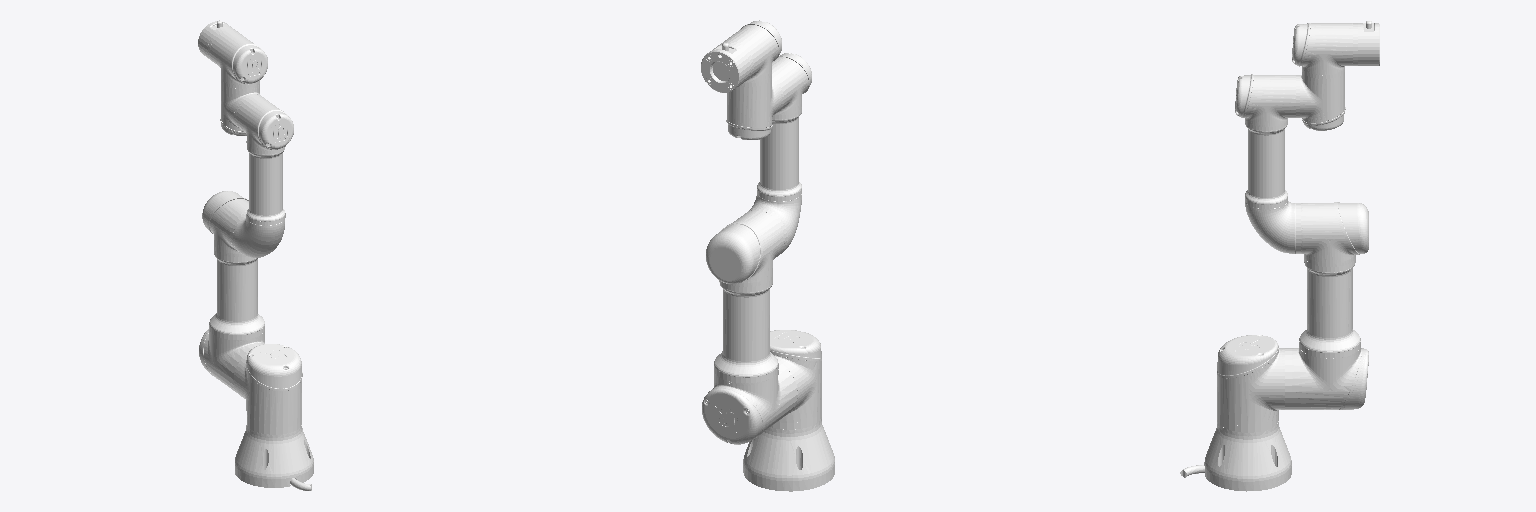
The robot description file, URDF, robot "ur3_test":
<robot name="ur3_test">

	<link name="world">
		
	</link>
        <link name="base_link">
        <inertial>
                <origin xyz="3.9192E-05 -0.00080834 0.04622" rpy="0 0 0" />
                <mass value="0.61578" />
                <inertia ixx="0.00076129" ixy="2.9384E-07" ixz="3.5384E-07" iyy="0.00077457" iyz="-3.4657E-06" izz="0.0010029" />
        </inertial>
        <visual>
                <origin xyz="0 0 0" rpy="0 0 0" />
                <geometry>
                        <mesh filename="package://ur5/meshes/ur3/base_link.STL" />
                </geometry>
                <material name="">
                        <color rgba="1 1 1 1" />
                </material>
        </visual>
        <collision>
                <origin xyz="0 0 0" rpy="0 0 0" />
                <geometry>
                        <mesh filename="package://ur5/meshes/ur3/base_link.STL" />
                </geometry>
        </collision>
        </link>
	<joint name="joint_base" type="fixed">
		<origin xyz="0.0 0.0 0.0" rpy="0.0 0.0 0.0"/>
		<parent link="world"/>
		<child link="base_link"/>
		<axis xyz="0.0 0.0 0.0"/>
	</joint>
        <gazebo reference="base_link">
                <material>Gazebo/Black</material>
        </gazebo>



        <link name="shoulder_pan_link">
                <inertial>
                        <origin xyz="1.1634E-05 0.0073306 -0.011559" rpy="0 0 0" />
                        <mass value="0.75582" />
                        <inertia ixx="0.0010687" ixy="-1.8994E-07" ixz="1.0778E-07" iyy="0.00099006" iyz="-0.00013108" izz="0.00090616" />
                </inertial>
                <visual>
                        <origin xyz="0 0 0" rpy="0 0 0" />
                        <geometry>
                                <mesh filename="package://ur5/meshes/ur3/shoulder_pan_link.STL" />
                        </geometry>
                        <material name="">
                                <color rgba="1 1 1 1" />
                        </material>
                </visual>
                <collision>
                        <origin xyz="0 0 0" rpy="0 0 0" />
                        <geometry>
                                <mesh filename="package://ur5/meshes/ur3/shoulder_pan_link.STL" />
                        </geometry>
                </collision>
        </link>
        <joint name="shoulder_pan_joint" type="revolute">
                <origin xyz="0 0 0.1519" rpy="0 0 0" />
                <parent link="base_link" />
                <child link="shoulder_pan_link" />
                <axis xyz="0 0 1" />
                <limit lower="-3.14" upper="3.14" effort="40" velocity="10" />
        </joint>
        <gazebo reference="shoulder_pan_link">
                <material>Gazebo/Orange</material>
        </gazebo>

        <link name="shoulder_lift_link">
                <inertial>
                        <origin xyz="0.1057 0.1166 4.973E-06" rpy="0 0 0" />
                        <mass value="1.8018" />
                        <inertia ixx="0.0016699" ixy="-8.1105E-05" ixz="-1.9355E-07" iyy="0.002517" iyz="1.05E-07" izz="0.0026495" />
                </inertial>
                <visual>
                        <origin xyz="0 0 0" rpy="1.5708 0 0" />
                        <geometry>
                                <mesh filename="package://ur5/meshes/ur3/shoulder_lift_link.STL" />
                        </geometry>
                        <material name="">
                                <color rgba="1 1 1 1" />
                        </material>
                </visual>
                <collision>
                        <origin xyz="0 0 0" rpy="0 0 0" />
                        <geometry>
                                <mesh filename="package://ur5/meshes/ur3/shoulder_lift_link.STL" />
                        </geometry>
                </collision>
        </link>
        <joint name="shoulder_lift_joint" type="revolute">
                <origin xyz="0 0 0" rpy="-1.5708 -1.5708 0" />
                <parent link="shoulder_pan_link" />
                <child link="shoulder_lift_link" />
                <axis xyz="0 0 1" />
                <limit lower="-3.14" upper="3.14" effort="40" velocity="10" />
        </joint>
        <gazebo reference="shoulder_lift_link">
                <material>Gazebo/Orange</material>
        </gazebo>

        <link name="elbow_link">
                <inertial>
                        <origin xyz="0.11119 4.3735E-08 -0.032145" rpy="0 0 0" />
                        <mass value="0.96221" />
                        <inertia ixx="0.00054272" ixy="-1.8204E-09" ixz="-4.6141E-05" iyy="0.0010727" iyz="1.4671E-10" izz="0.0010148" />
                </inertial>
                <visual>
                        <origin xyz="0 0 0" rpy="0 0 0" />
                        <geometry>
                                <mesh filename="package://ur5/meshes/ur3/elbow_link.STL" />
                        </geometry>
                        <material name="">
                                <color rgba="1 1 1 1" />
                        </material>
                </visual>
                <collision>
                        <origin xyz="0 0 0" rpy="0 0 0" />
                        <geometry>
                                <mesh filename="package://ur5/meshes/ur3/elbow_link.STL" />
                        </geometry>
                </collision>
        </link>
        <joint name="elbow_joint" type="revolute">
                <origin xyz="0.24365 0 0" rpy="3.1416 0 0" />
                <parent link="shoulder_lift_link" />
                <child link="elbow_link" />
                <axis xyz="0 0 1" />
                <limit lower="-3.14" upper="3.14" effort="40" velocity="10" />
        </joint>
        <gazebo reference="elbow_link">
                <material>Gazebo/Orange</material>
        </gazebo>


        <link name="wrist_1_link">
                <inertial>
                        <origin xyz="-7.2372E-08 0.00051699 -0.0059208" rpy="0 0 0" />
                        <mass value="0.32519" />
                        <inertia ixx="0.00022622" ixy="1.7006E-10" ixz="-1.5908E-09" iyy="0.00019909" iyz="1.8338E-05" izz="0.00019458" />
                </inertial>
                <visual>
                        <origin xyz="0 0 0" rpy="0 0 0" />
                        <geometry>
                                <mesh filename="package://ur5/meshes/ur3/wrist_1_link.STL" />
                        </geometry>
                        <material name="">
                                <color rgba="1 1 1 1" />
                        </material>
                </visual>
                <collision>
                        <origin xyz="0 0 0" rpy="0 0 0" />
                        <geometry>
                                <mesh filename="package://ur5/meshes/ur3/wrist_1_link.STL" />
                        </geometry>
                </collision>
        </link>
        <joint name="wrist_1_joint" type="revolute">
                <origin xyz="0.213 0 -0.1104" rpy="-3.1416 0 -1.5708" />
                <parent link="elbow_link" />
                <child link="wrist_1_link" />
                <axis xyz="0 0 1" />
                <limit lower="-3.14" upper="3.14" effort="40" velocity="10" />
        </joint>
        <gazebo reference="wrist_1_link">
                <material>Gazebo/Orange</material>
        </gazebo>

        <link name="wrist_2_link">
                <inertial>
                        <origin xyz="9.251E-08 -0.00051698 -0.0059208" rpy="0 0 0" />
                        <mass value="0.32519" />
                        <inertia ixx="0.00022621" ixy="2.6605E-10" ixz="1.6587E-09" iyy="0.00019908" iyz="-1.8338E-05" izz="0.00019458" />
                </inertial>
                <visual>
                        <origin xyz="0 0 0" rpy="0 0 0" />
                        <geometry>
                                <mesh filename="package://ur5/meshes/ur3/wrist_2_link.STL" />
                        </geometry>
                        <material name="">
                                <color rgba="1 1 1 1" />
                        </material>
                </visual>
                <collision>
                        <origin xyz="0 0 0" rpy="0 0 0" />
                        <geometry>
                                <mesh filename="package://ur5/meshes/ur3/wrist_2_link.STL" />
                        </geometry>
                </collision>
        </link>
                <joint name="wrist_2_joint" type="revolute">
                <origin xyz="0 -0.0834 0" rpy="1.5708 0 0" />
                <parent link="wrist_1_link" />
                <child link="wrist_2_link" />
                <axis xyz="0 0 1" />
                <limit lower="-3.14" upper="3.14" effort="40" velocity="10" />
        </joint>
        <gazebo reference="wrist_2_link">
                <material>Gazebo/Orange</material>
        </gazebo>
                
        <link name="wrist_3_link">
                <inertial>
                        <origin xyz="3.4949E-11 0.00010331 -0.020427" rpy="0 0 0" />
                        <mass value="0.11536" />
                        <inertia ixx="4.2469E-05" ixy="-5.7739E-13" ixz="-1.2174E-12" iyy="4.2681E-05" iyz="-1.0323E-07" izz="5.9067E-05" />
                </inertial>
                <visual>
                        <origin xyz="0 0 0" rpy="0 0 0" />
                        <geometry>
                                <mesh filename="package://ur5/meshes/ur3/wrist_3_link.STL" />
                        </geometry>
                        <material name="">
                                <color rgba="1 1 1 1" />
                        </material>
                </visual>
                <collision>
                        <origin xyz="0 0 0" rpy="0 0 0" />
                        <geometry>
                                <mesh filename="package://ur5/meshes/ur3/wrist_3_link.STL" />
                        </geometry>
                </collision>
        </link>
        <joint name="wrist_3_joint" type="revolute">
                <origin xyz="0 0.0824 0" rpy="-1.5708 0 0" />
                <parent link="wrist_2_link" />
                <child link="wrist_3_link" />
                <axis xyz="0 0 1" />
                <limit lower="-3.14" upper="3.14" effort="40" velocity="10" />
        </joint>
        <gazebo reference="wrist_3_link">
                <material>Gazebo/Orange</material>
        </gazebo>
        

//VelocityJointInterface
//PositionJointInterface
        <transmission name="trans_1">
                <type>transmission_interface/SimpleTransmission</type>
                <actuator name="motor_1">
                        <hardwareInterface>hardware_interface/PositionJointInterface</hardwareInterface>                
                        <mechanicalReduction>1</mechanicalReduction>
                </actuator>
                <joint name="shoulder_pan_joint">
                        <hardwareInterface>hardware_interface/PositionJointInterface</hardwareInterface>
                </joint>
        </transmission>

        <transmission name="trans_2">
                <type>transmission_interface/SimpleTransmission</type>
                <actuator name="motor_2">
                        <hardwareInterface>hardware_interface/PositionJointInterface</hardwareInterface>                
                        <mechanicalReduction>1</mechanicalReduction>
                </actuator>
                <joint name="shoulder_lift_joint">
                        <hardwareInterface>hardware_interface/PositionJointInterface</hardwareInterface>
                </joint>
        </transmission>

        <transmission name="trans_3">
                <type>transmission_interface/SimpleTransmission</type>
                <actuator name="motor_3">
                        <hardwareInterface>hardware_interface/PositionJointInterface</hardwareInterface>                
                        <mechanicalReduction>1</mechanicalReduction>
                </actuator>
                <joint name="elbow_joint">
                        <hardwareInterface>hardware_interface/PositionJointInterface</hardwareInterface>
                </joint>
        </transmission>

         <transmission name="trans_4">
                <type>transmission_interface/SimpleTransmission</type>
                <actuator name="motor_4">
                        <hardwareInterface>hardware_interface/PositionJointInterface</hardwareInterface>                
                        <mechanicalReduction>1</mechanicalReduction>
                </actuator>
                <joint name="wrist_1_joint">
                        <hardwareInterface>hardware_interface/PositionJointInterface</hardwareInterface>
                </joint>
        </transmission> 

        <transmission name="trans_5">
                <type>transmission_interface/SimpleTransmission</type>
                <actuator name="motor_5">
                        <hardwareInterface>hardware_interface/PositionJointInterface</hardwareInterface>                
                        <mechanicalReduction>1</mechanicalReduction>
                </actuator>
                <joint name="wrist_2_joint">
                        <hardwareInterface>hardware_interface/PositionJointInterface</hardwareInterface>
                </joint>
        </transmission>

         <transmission name="trans_6">
                <type>transmission_interface/SimpleTransmission</type>
                <actuator name="motor_6">
                        <hardwareInterface>hardware_interface/PositionJointInterface</hardwareInterface>                
                        <mechanicalReduction>1</mechanicalReduction>
                </actuator>
                <joint name="wrist_3_joint">
                        <hardwareInterface>hardware_interface/PositionJointInterface</hardwareInterface>
                </joint>
        </transmission> 


        <gazebo>
                <plugin name="gazebo_ros_control" filename="libgazebo_ros_control.so">
                </plugin>
        </gazebo>

</robot>

--- Render facts (derived) ---
The picture shows the robot from 3 angles, left to right: view 1: azimuth 30°, elevation 25°; view 2: azimuth 150°, elevation 25°; view 3: azimuth 270°, elevation 25°; orthographic projection.
Robot: ur3_test — 8 links, 7 joints (6 revolute, 1 fixed); root link world; default pose: every joint at zero.
Visible links, largest first — view 1: shoulder_lift_link, elbow_link, shoulder_pan_link, base_link, wrist_2_link, wrist_1_link, wrist_3_link; view 2: shoulder_lift_link, elbow_link, base_link, shoulder_pan_link, wrist_1_link, wrist_3_link, wrist_2_link; view 3: shoulder_lift_link, elbow_link, shoulder_pan_link, base_link, wrist_2_link, wrist_1_link, wrist_3_link.
Link boxes in pixels (<box>): shoulder_lift_link: <box>199,191,264,392</box>; elbow_link: <box>230,96,293,257</box>; shoulder_pan_link: <box>233,344,302,434</box>; base_link: <box>235,425,313,490</box>; wrist_2_link: <box>210,30,267,88</box>; wrist_1_link: <box>220,81,260,135</box>; wrist_3_link: <box>198,20,237,61</box>; shoulder_lift_link: <box>702,210,797,444</box>; elbow_link: <box>748,53,811,253</box>; base_link: <box>743,417,834,491</box>; shoulder_pan_link: <box>770,330,821,429</box>; wrist_1_link: <box>726,78,783,139</box>; wrist_3_link: <box>701,41,753,92</box>; wrist_2_link: <box>724,20,781,86</box>; shoulder_lift_link: <box>1285,202,1368,409</box>; elbow_link: <box>1235,74,1300,253</box>; shoulder_pan_link: <box>1217,335,1284,432</box>; base_link: <box>1180,420,1291,491</box>; wrist_2_link: <box>1292,23,1352,78</box>; wrist_1_link: <box>1296,72,1345,130</box>; wrist_3_link: <box>1353,21,1379,65</box>.
Size in the robot's own frame: 0.128 by 0.2923 by 0.7308 metres.
Meshes: 7 distinct files referenced, 7 mesh visuals loaded (7 binary STL).